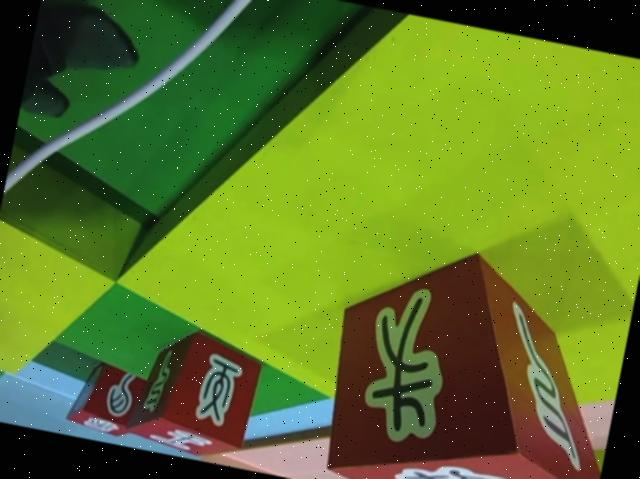R2 Fake: (307, 223, 638, 479), (127, 317, 271, 468), (62, 352, 150, 442)
